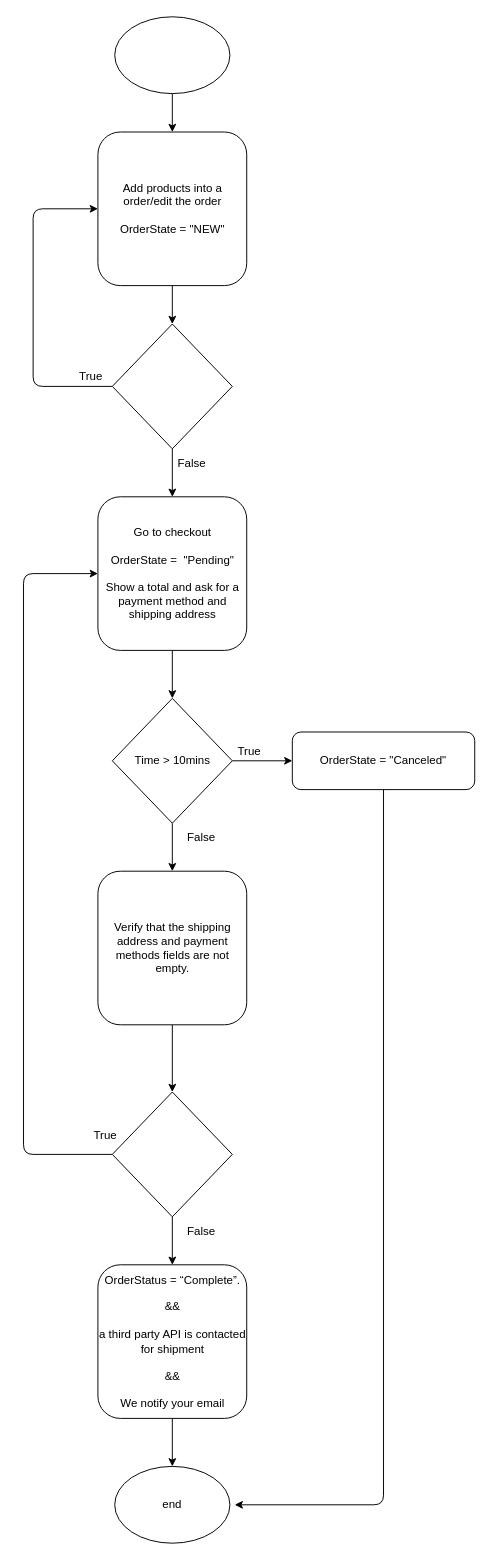
Some shapes in this 492 by 1560 pixel diagram are drawn without their labels. Each missing label, with the box of its shape:
!Verification: (111, 1091, 232, 1217)
Continue editing?: (111, 323, 232, 449)
init: (114, 16, 230, 94)
